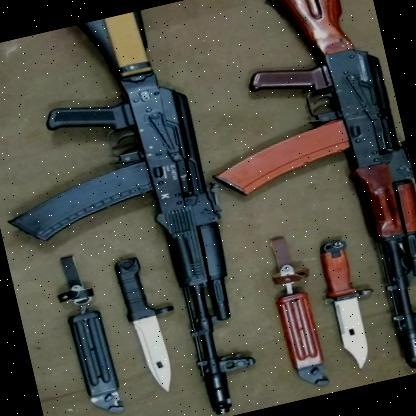rifle: (0, 1, 272, 416), (188, 0, 416, 381)
